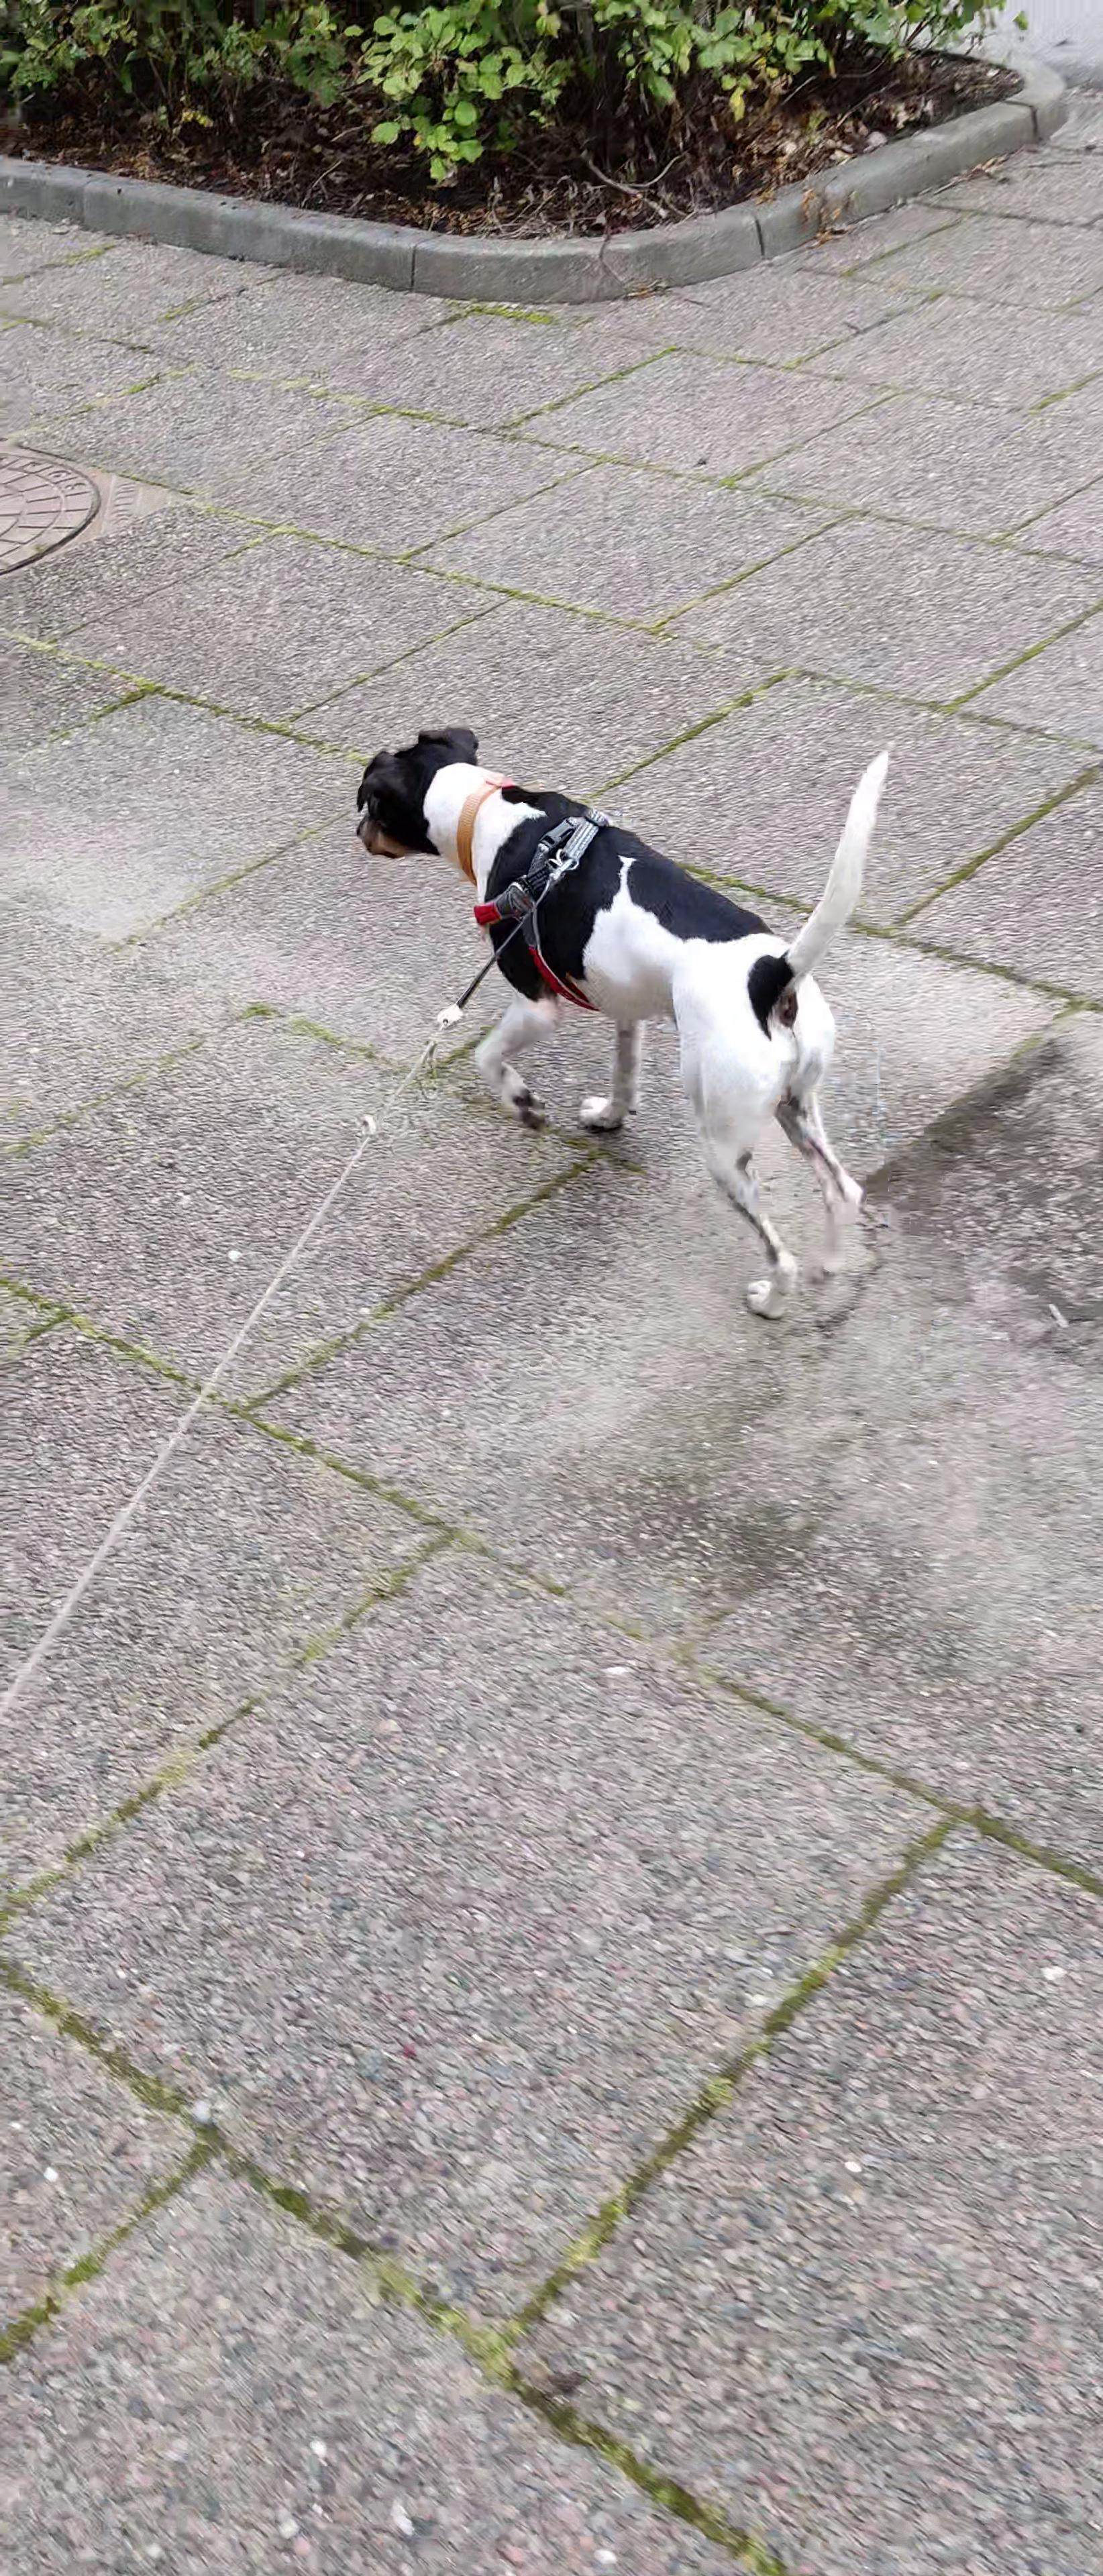Dog: (340, 683, 912, 1337)
